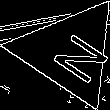N_NW: (34, 20, 105, 83)
